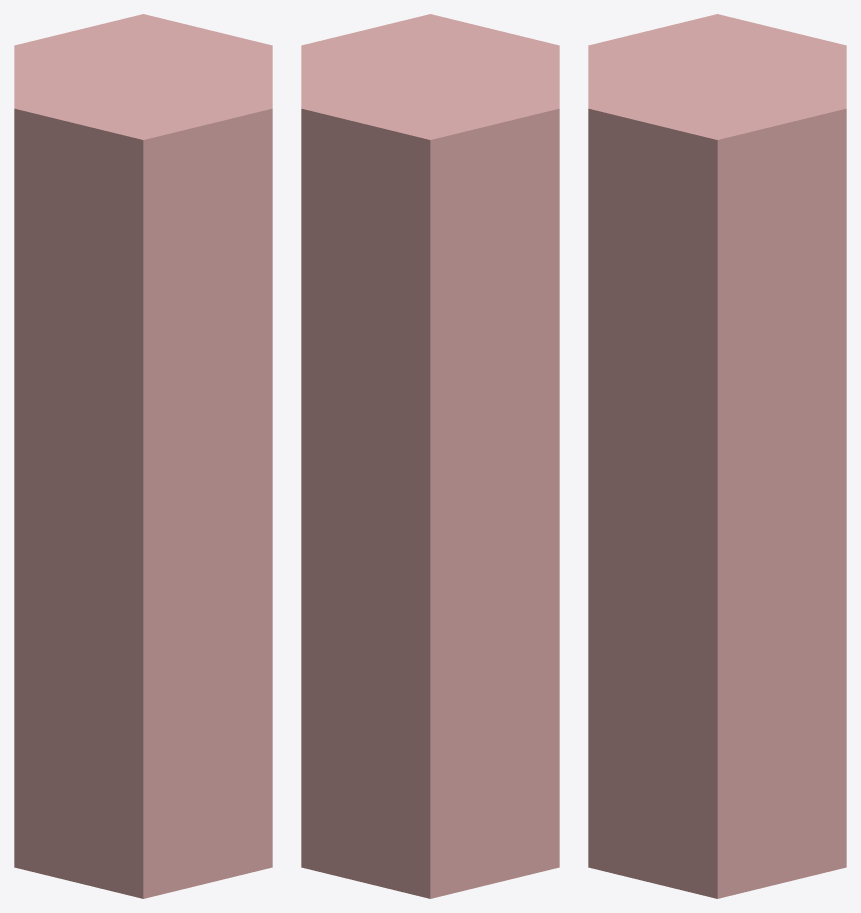
The model's file is Level01_mapPiece_revealStair_v01.fbx.
3 renders of one model, left to right at view 1: azimuth 30°, elevation 25°; view 2: azimuth 150°, elevation 25°; view 3: azimuth 270°, elevation 25°, orthographic.
Visible parts, largest first — view 1: movingPiece_revealStair; view 2: movingPiece_revealStair; view 3: movingPiece_revealStair.
Boxes of the visible parts, <box> form: movingPiece_revealStair: <box>14,14,272,898</box>; movingPiece_revealStair: <box>301,14,559,898</box>; movingPiece_revealStair: <box>588,14,846,898</box>.
Size of the model in its own units: 194 by 543 by 168.
